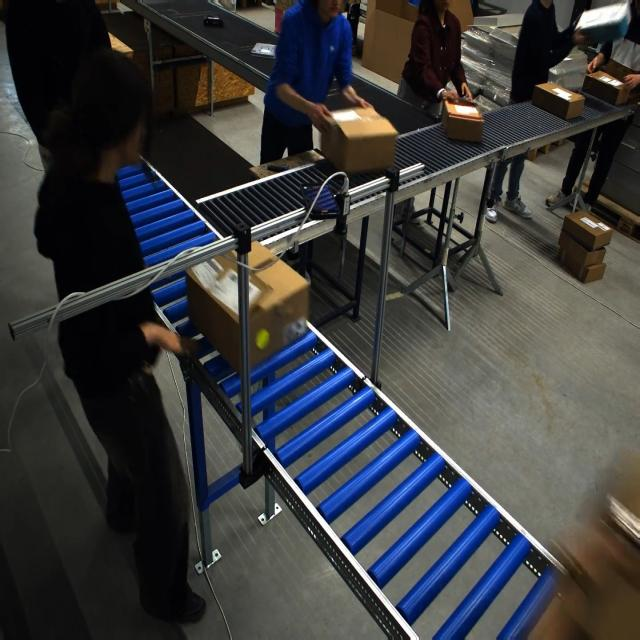box: (186, 240, 307, 378), (321, 105, 391, 175), (572, 0, 634, 56), (556, 233, 606, 282), (560, 211, 613, 253), (531, 81, 585, 121), (440, 98, 484, 143), (581, 68, 630, 107)
product: (157, 7, 211, 19), (235, 43, 275, 56), (222, 41, 250, 51), (204, 15, 225, 26)
